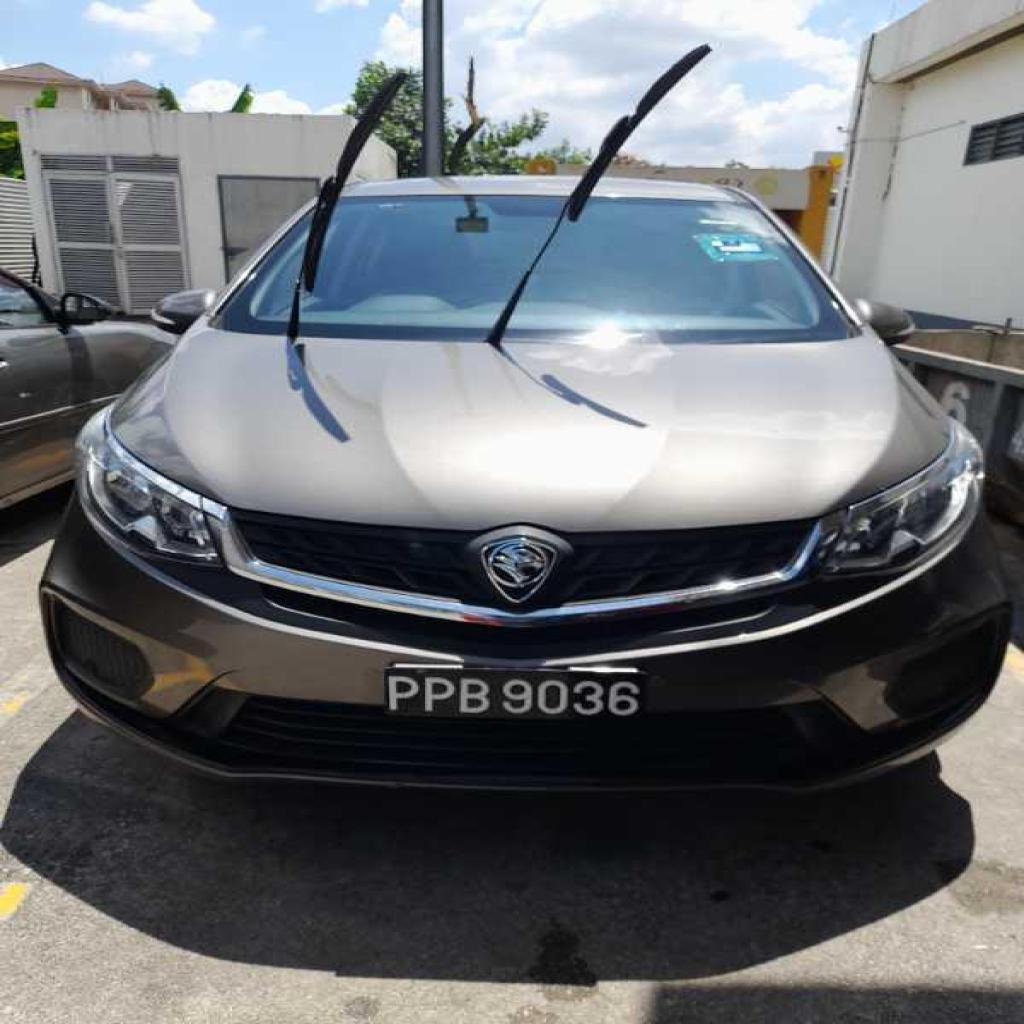car: (39, 175, 1005, 787)
car plate: (386, 664, 643, 718)
